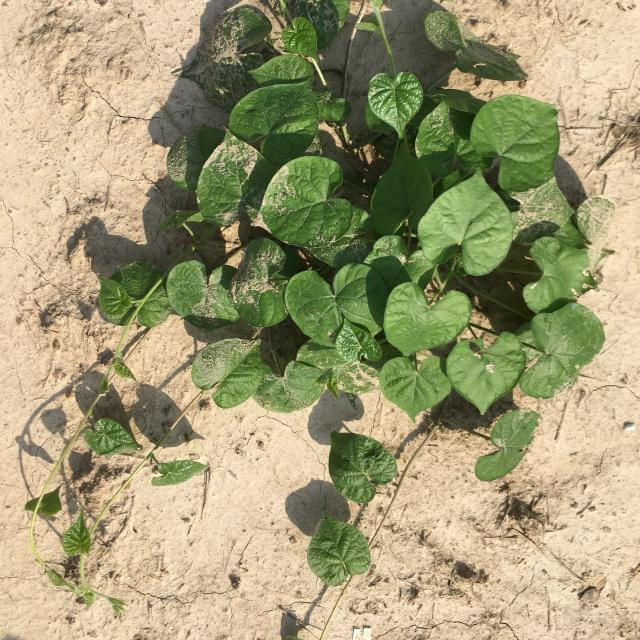MorningGlory: (24, 1, 616, 639)
